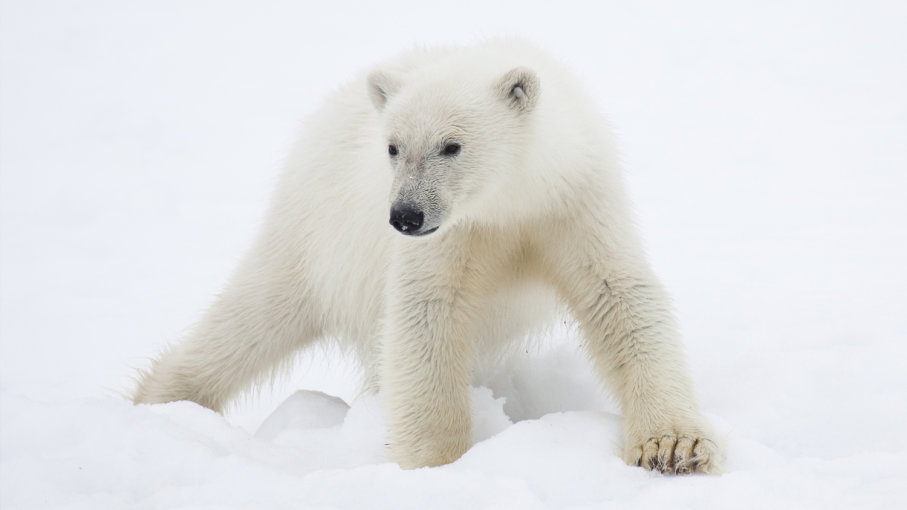Polar Bear: (124, 25, 744, 496)
